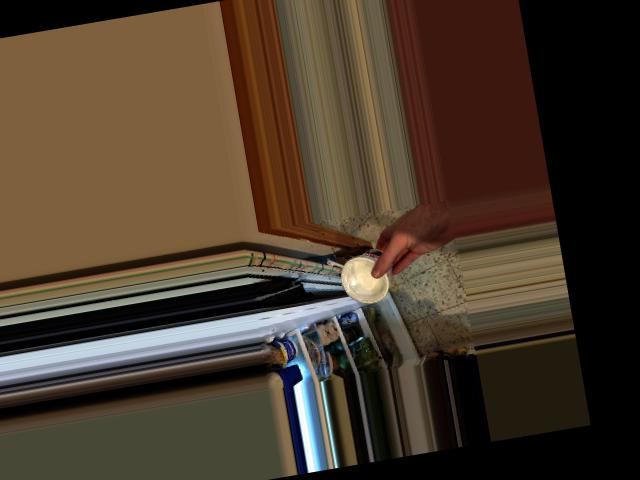cotage: (333, 238, 402, 308)
